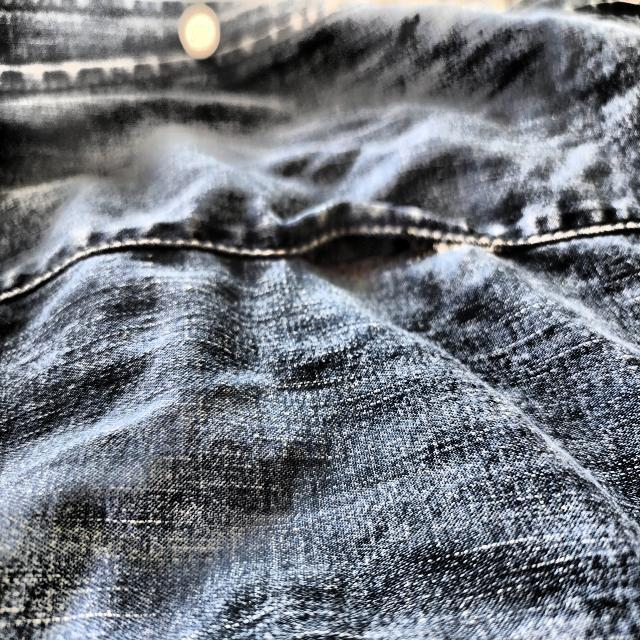cut: (294, 209, 448, 274)
